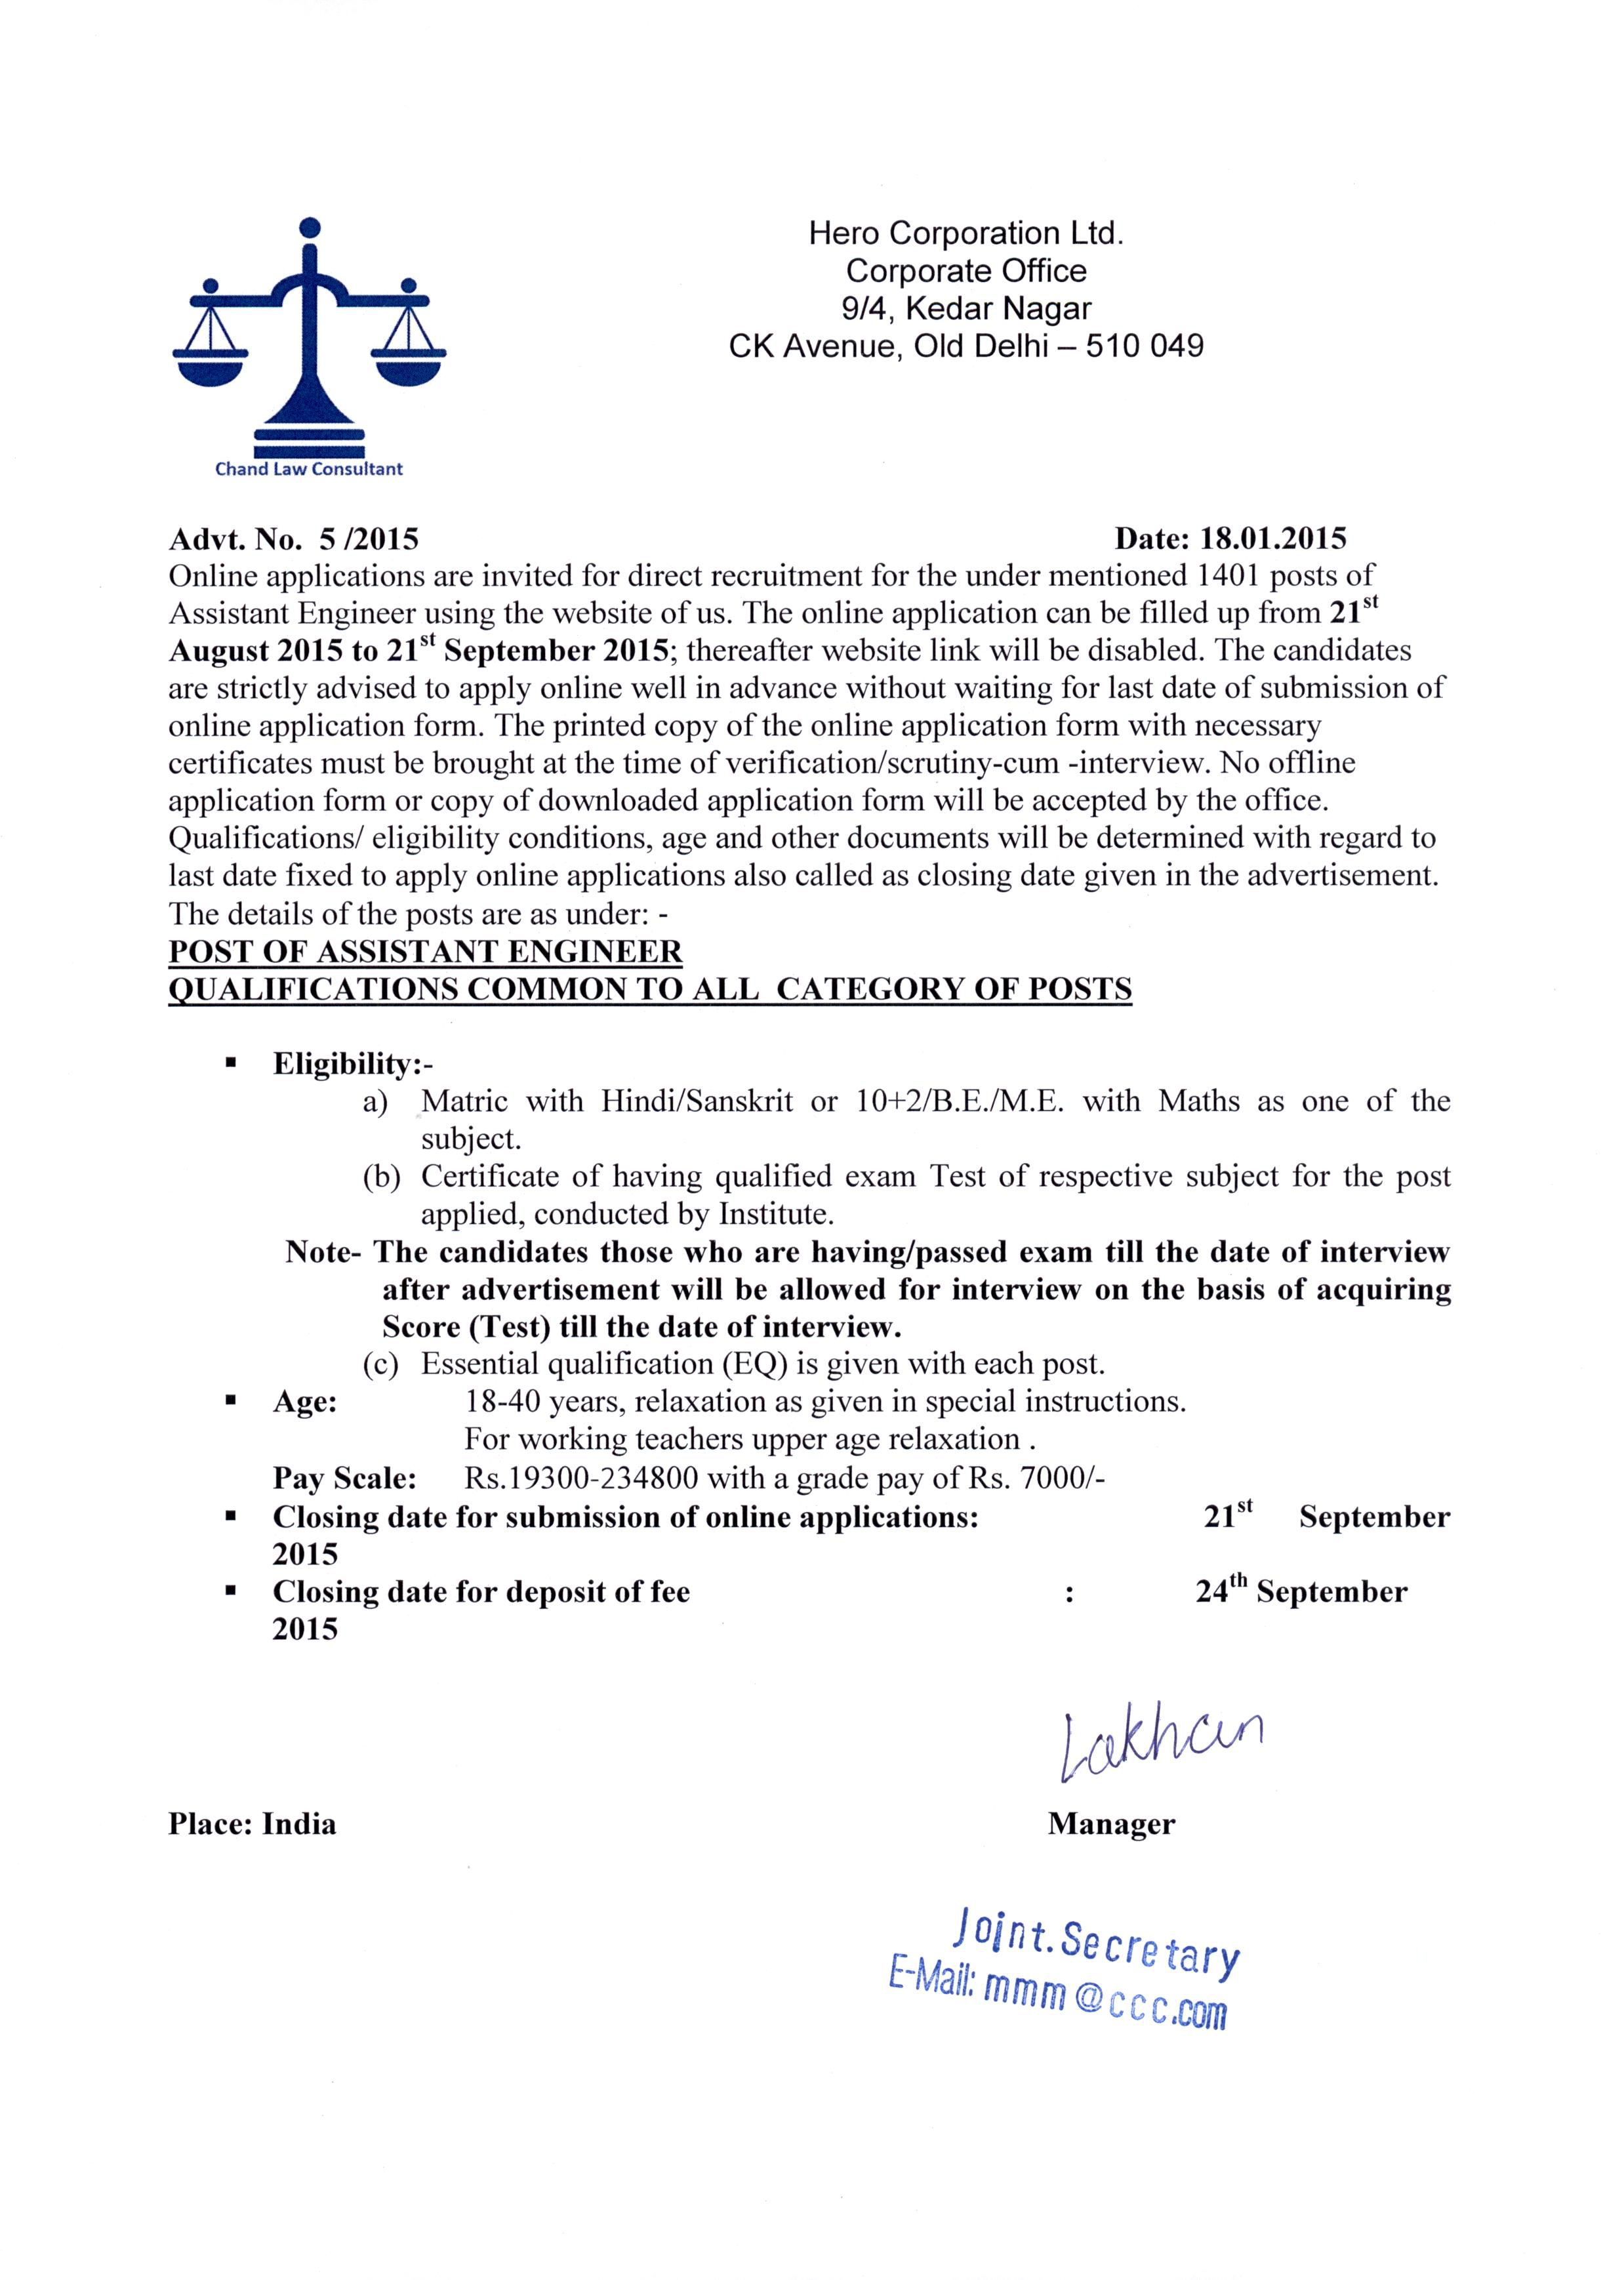Signature: (1048, 1689, 1276, 1790)
